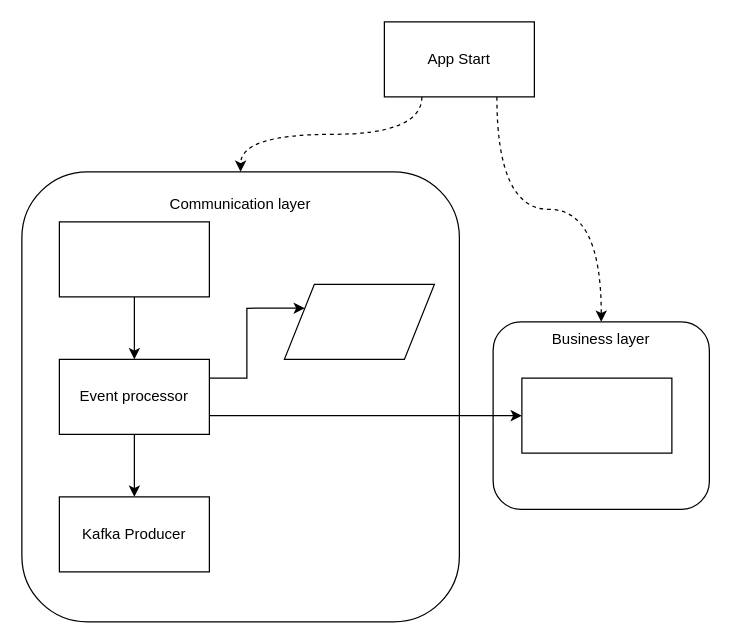
Image size: 731x644. Some labels were removed from this diagram. The shapes that lost their labels are listed below. From the top down, each one's centre as x and y in pixels, then its label:
[133,259]: Kafka Consumer
[358,321]: Event validator
[596,415]: Data Processor
